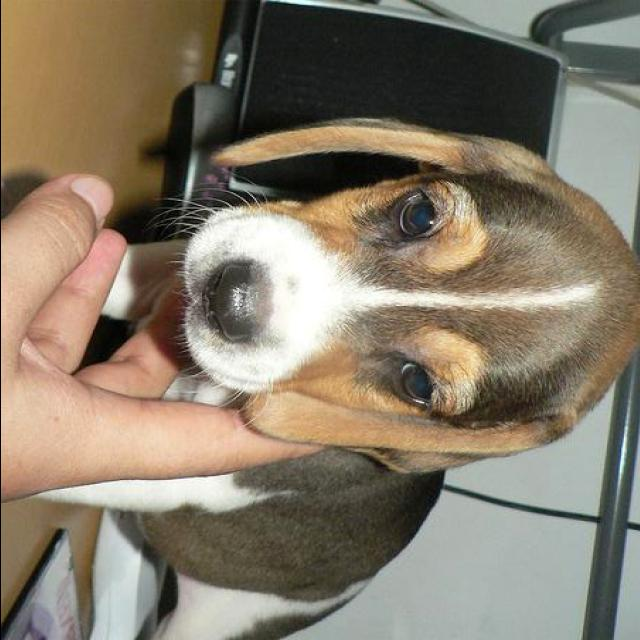beagle: (4, 120, 638, 640)
